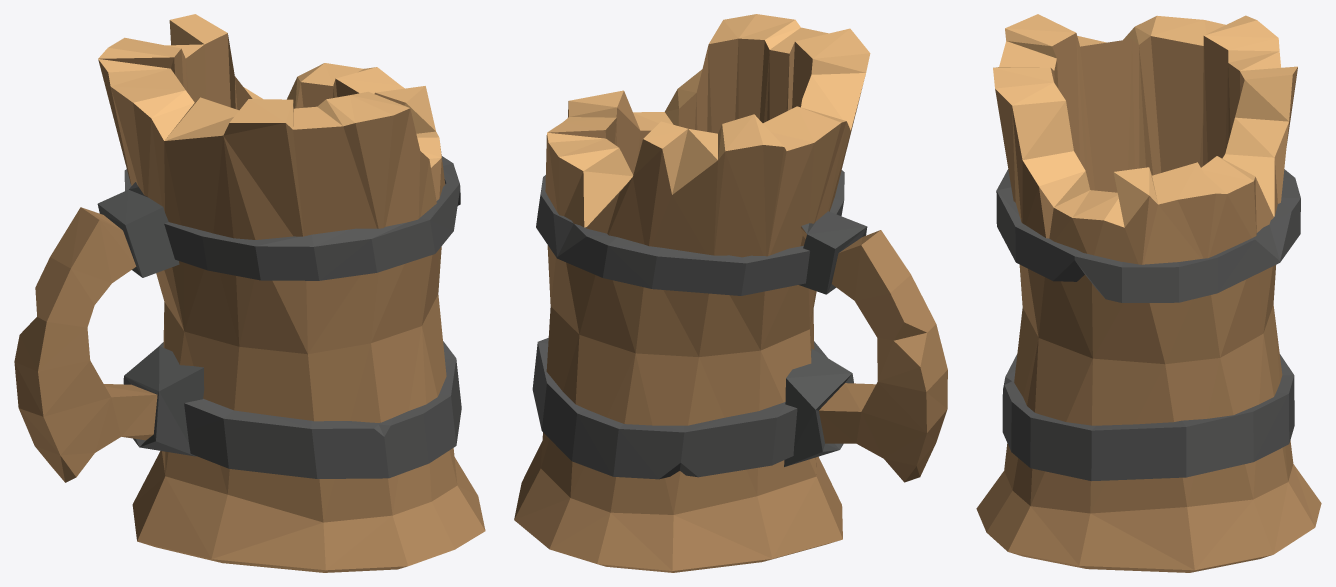
The model's file is Mug_001.fbx.
The picture shows the model from 3 angles, left to right: view 1: azimuth 30°, elevation 25°; view 2: azimuth 150°, elevation 25°; view 3: azimuth 270°, elevation 25°; orthographic projection. The views are drawn at different scales.
Visible parts, largest first — view 1: Mug_001; view 2: Mug_001; view 3: Mug_001.
Boxes of the visible parts, <box> form: Mug_001: <box>14,14,485,572</box>; Mug_001: <box>514,14,947,572</box>; Mug_001: <box>976,14,1321,572</box>.
Size of the model in its own units: 0.1914 by 0.2056 by 0.146.
